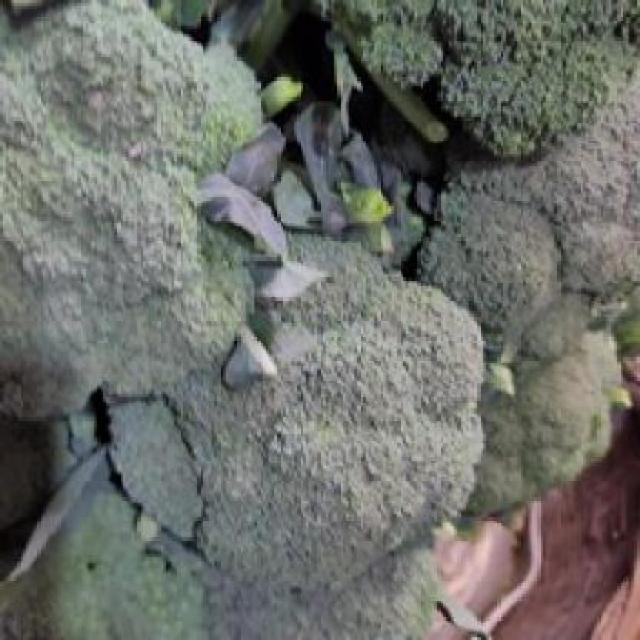broccoli: (140, 237, 489, 552), (0, 14, 256, 418), (434, 137, 637, 500)
